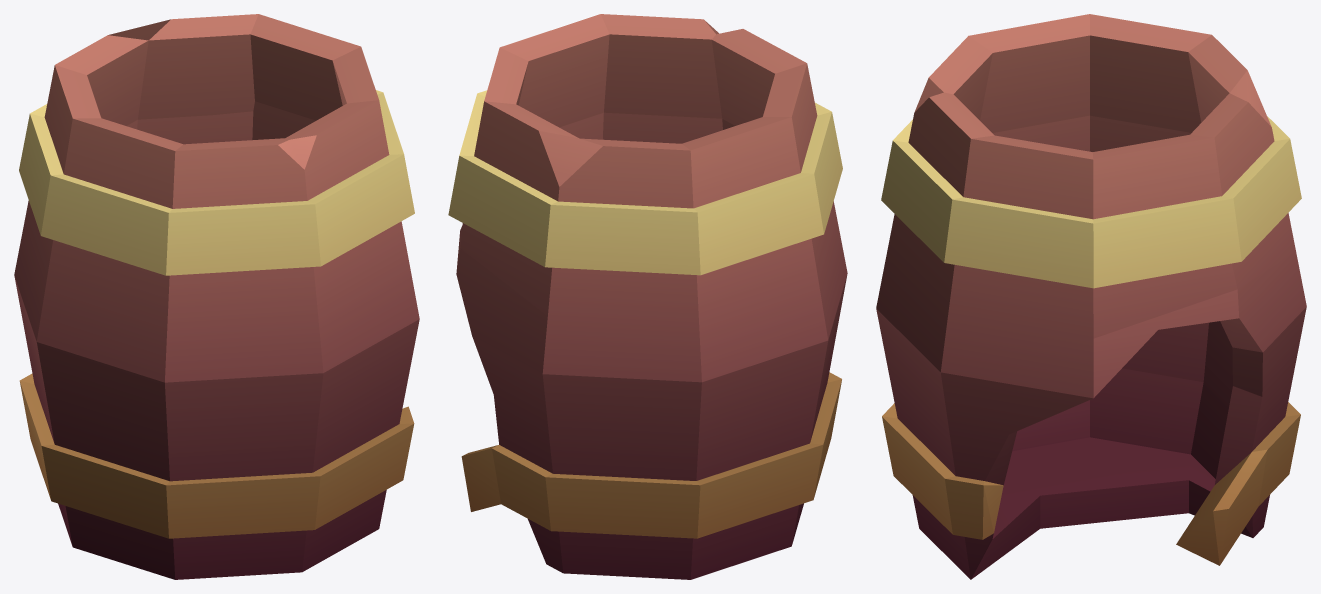
The model's file is BrokenBarel.fbx.
3 views of the same model, side by side, from view 1: azimuth 30°, elevation 25°; view 2: azimuth 150°, elevation 25°; view 3: azimuth 270°, elevation 25° (orthographic). The views are drawn at different scales.
Parts seen in each view (by area): view 1: BrokenBarel_Mesh; view 2: BrokenBarel_Mesh; view 3: BrokenBarel_Mesh.
Part boxes in pixels (x1,y1,x2,y2): BrokenBarel_Mesh: (14,14,419,579); BrokenBarel_Mesh: (448,14,847,579); BrokenBarel_Mesh: (876,14,1306,579).
Bounding box in the file's own units: 268 × 303 × 268.
